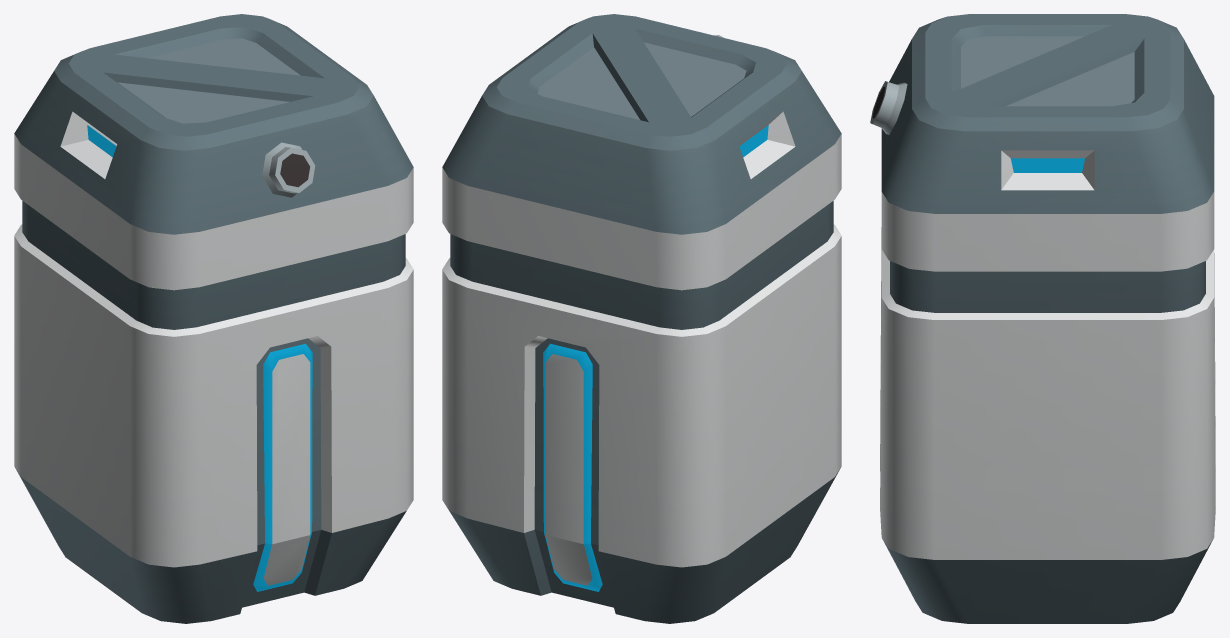
The model's file is Barrel_009.glb.
3 renders of one model, left to right at view 1: azimuth 30°, elevation 25°; view 2: azimuth 150°, elevation 25°; view 3: azimuth 270°, elevation 25°, orthographic. The views are drawn at different scales.
Parts seen in each view (by area): view 1: Barrel_009; view 2: Barrel_009; view 3: Barrel_009.
Boxes of the visible parts, x1,y1,x2,y2 form: Barrel_009: [14, 14, 413, 623]; Barrel_009: [442, 14, 841, 623]; Barrel_009: [870, 14, 1215, 623].
Bounding box in the file's own units: 0.6 × 1 × 0.6237.
2 materials, 2 textured.
